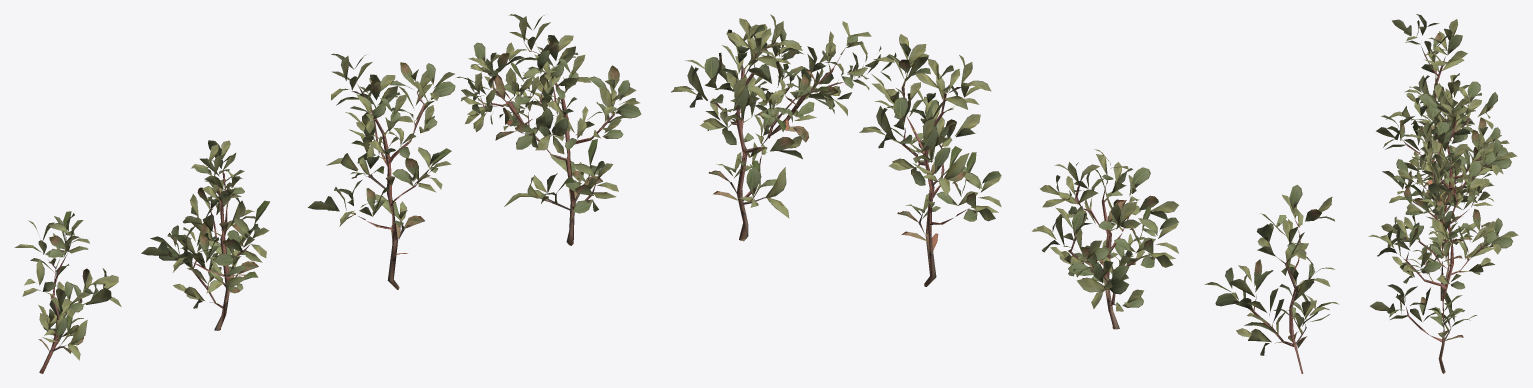
File: shrub_04_lod1.glb
3 renders of one model, left to right at view 1: azimuth 30°, elevation 25°; view 2: azimuth 150°, elevation 25°; view 3: azimuth 270°, elevation 25°, orthographic. The views are drawn at different scales.
Parts seen in each view (by area): view 1: shrub_04; view 2: shrub_04; view 3: shrub_04.
Part boxes in pixels (bbox=[...]): shrub_04: bbox=[14, 14, 641, 373]; shrub_04: bbox=[671, 14, 1338, 373]; shrub_04: bbox=[1368, 14, 1518, 373].
Size of the model in its own units: 0.5837 by 0.2192 by 0.1461.
Materials: 1 (1 with a texture image).
